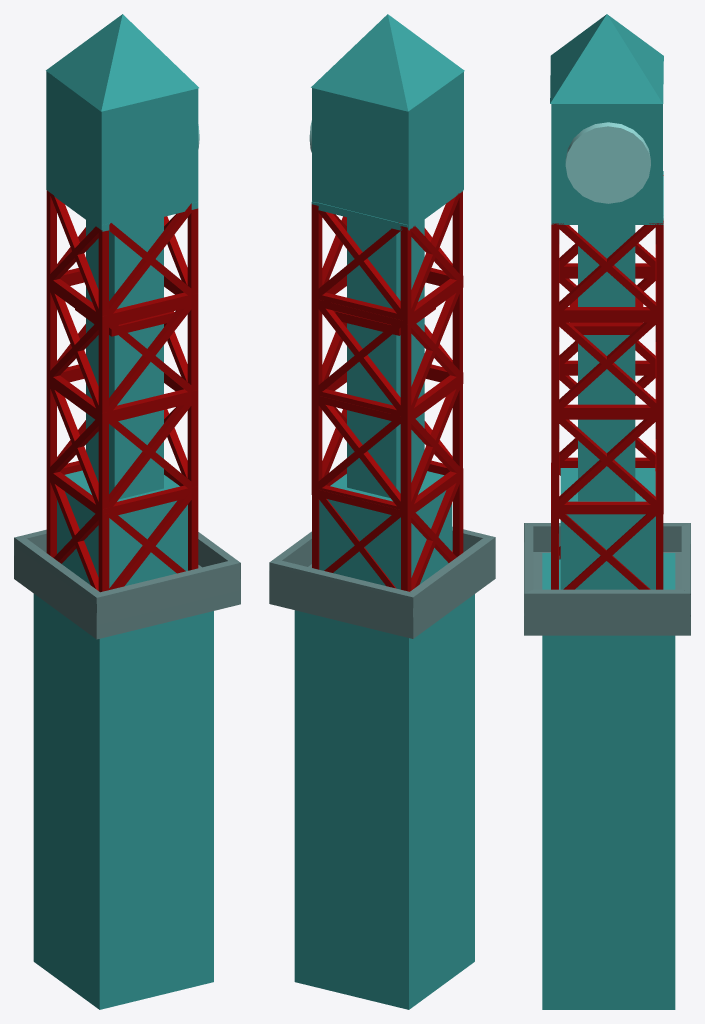
The model's file is clocktower.fbx.
3 renders of one model, left to right at view 1: azimuth 30°, elevation 25°; view 2: azimuth 150°, elevation 25°; view 3: azimuth 270°, elevation 25°, orthographic.
Parts seen in each view (by area): view 1: polySurface26; view 2: polySurface26; view 3: polySurface26.
Part boxes in pixels (bbox=[...]): polySurface26: bbox=[14, 14, 240, 1009]; polySurface26: bbox=[269, 14, 495, 1009]; polySurface26: bbox=[524, 14, 690, 1009].
Bounding box in the file's own units: 4.75 × 30.18 × 4.72.
